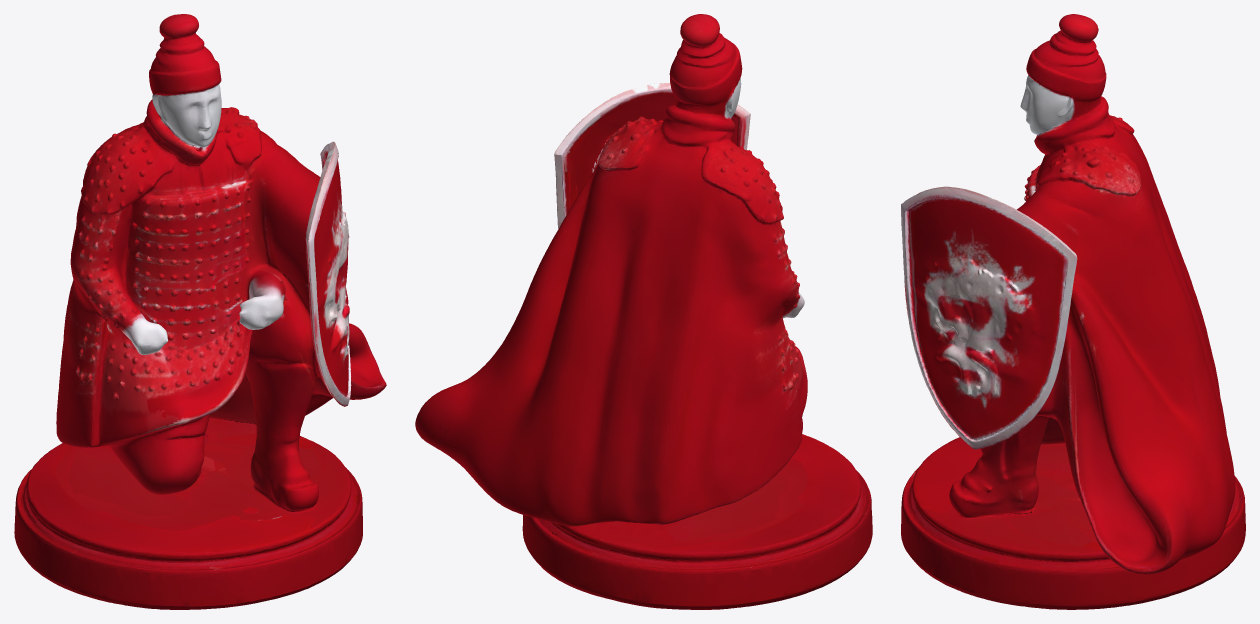
Rendered from pawn_white.glb.
3 views of the same model, side by side, from view 1: azimuth 30°, elevation 25°; view 2: azimuth 150°, elevation 25°; view 3: azimuth 270°, elevation 25° (orthographic).
Visible parts, largest first — view 1: model; view 2: model; view 3: model.
Boxes of the visible parts, x1=… form: model: x1=14, y1=14, x2=386, y2=609; model: x1=415, y1=14, x2=872, y2=609; model: x1=901, y1=14, x2=1245, y2=609.
Size of the model in its own units: 1.45 by 1.9 by 1.13.
Materials: 1 (1 with a texture image).
